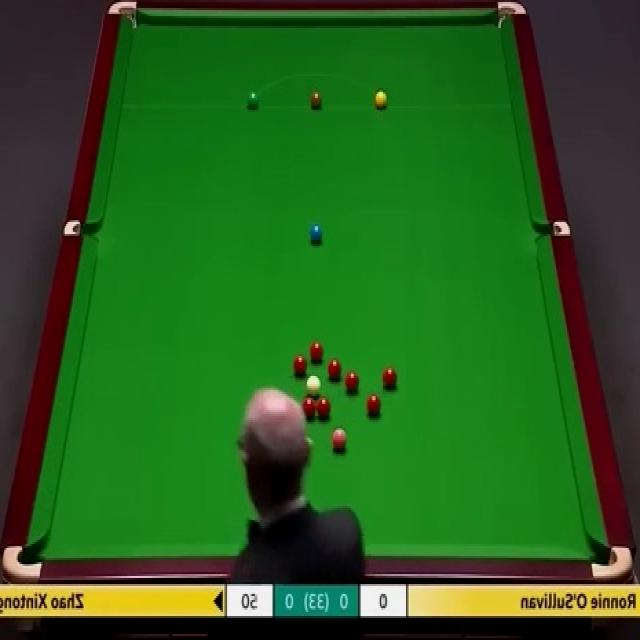blue-ball: (308, 222, 323, 243)
brown-ball: (309, 88, 324, 110)
green-ball: (245, 90, 260, 110)
pink-ball: (330, 426, 348, 451)
red-ball: (382, 366, 399, 391), (366, 392, 382, 417), (292, 353, 308, 378), (327, 357, 343, 381), (344, 369, 360, 393), (316, 396, 332, 420), (310, 339, 324, 363), (302, 396, 316, 419)
white-ball: (306, 376, 322, 398)
yellow-ball: (375, 88, 388, 109)
